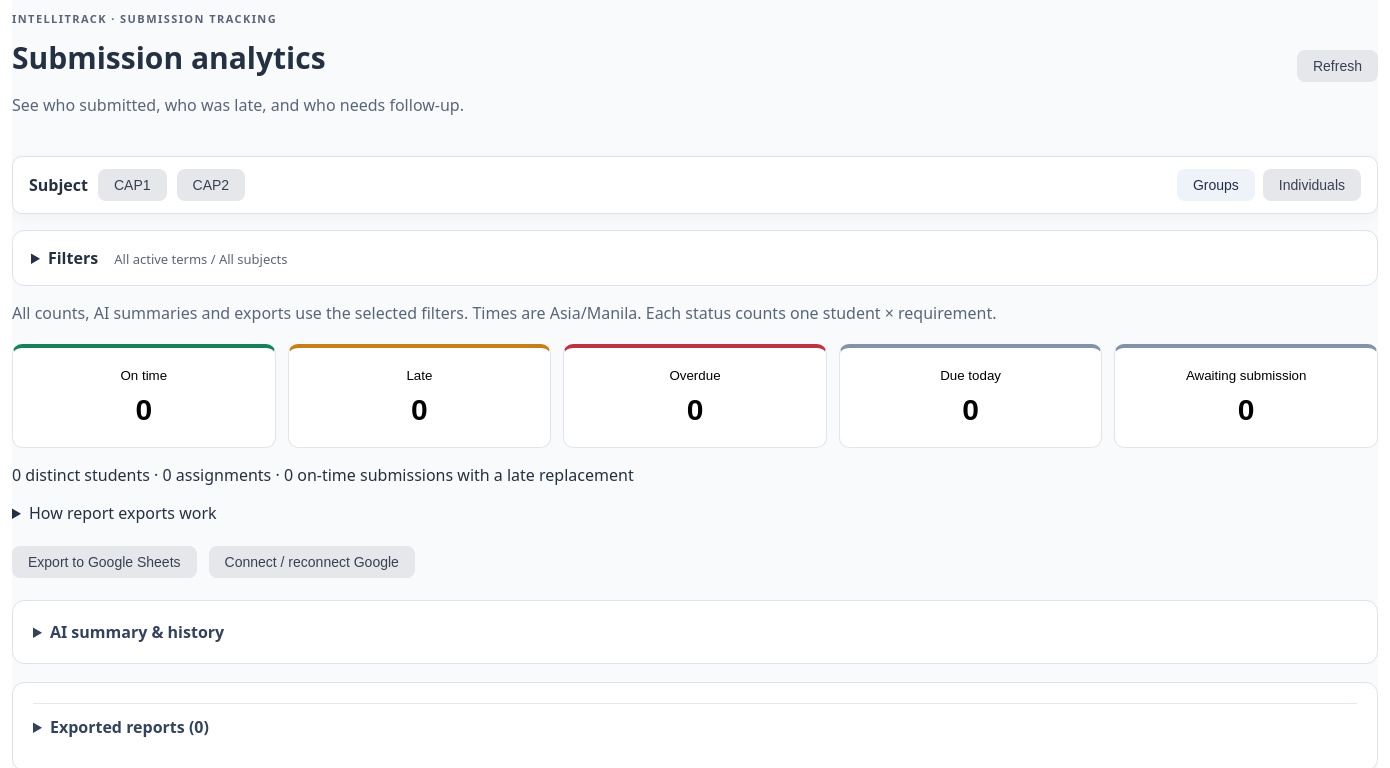
export refuses mixed subjects before connecting Google
Click the button "Export to Google Sheets" at point(104, 562), box [12,546,196,578]
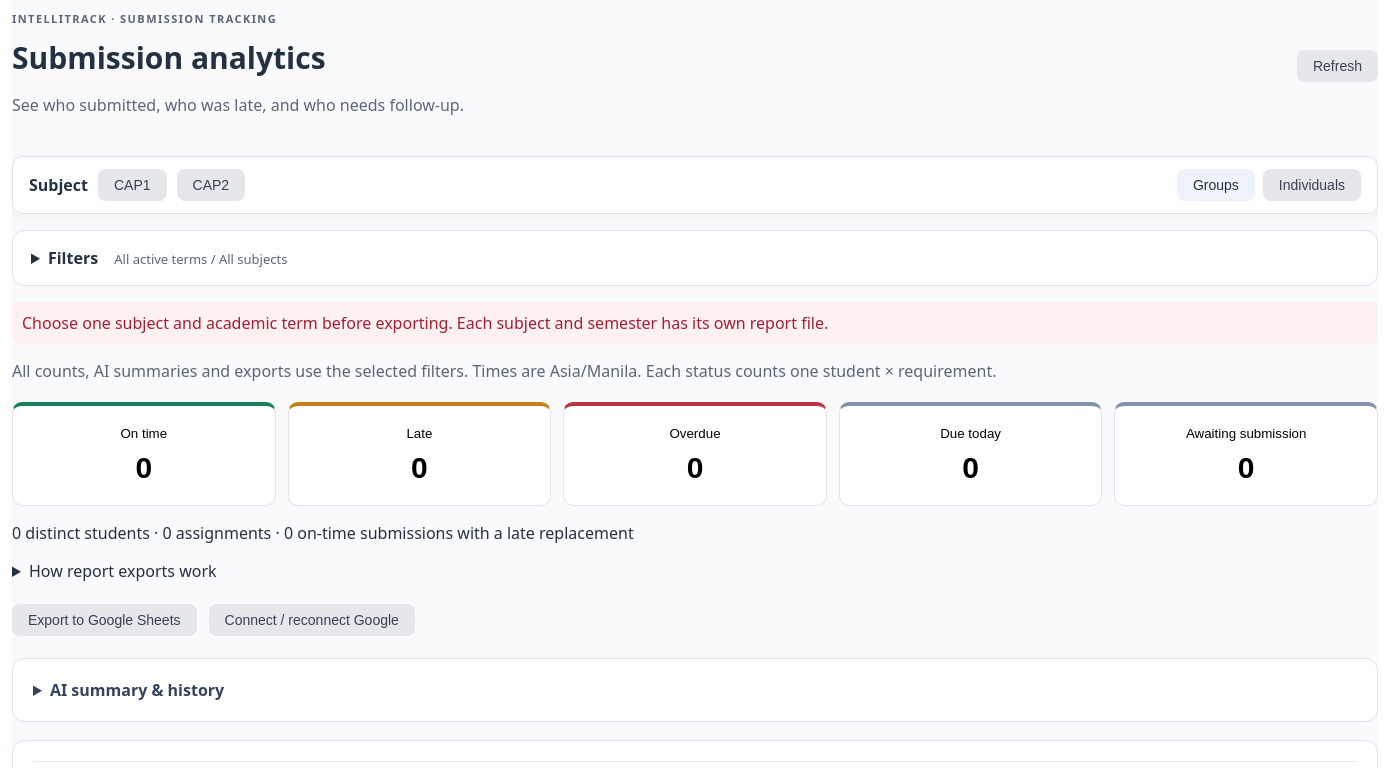
Now the text "Choose one subject and academic term before exporting" is shown, box [22,312,828,334]
